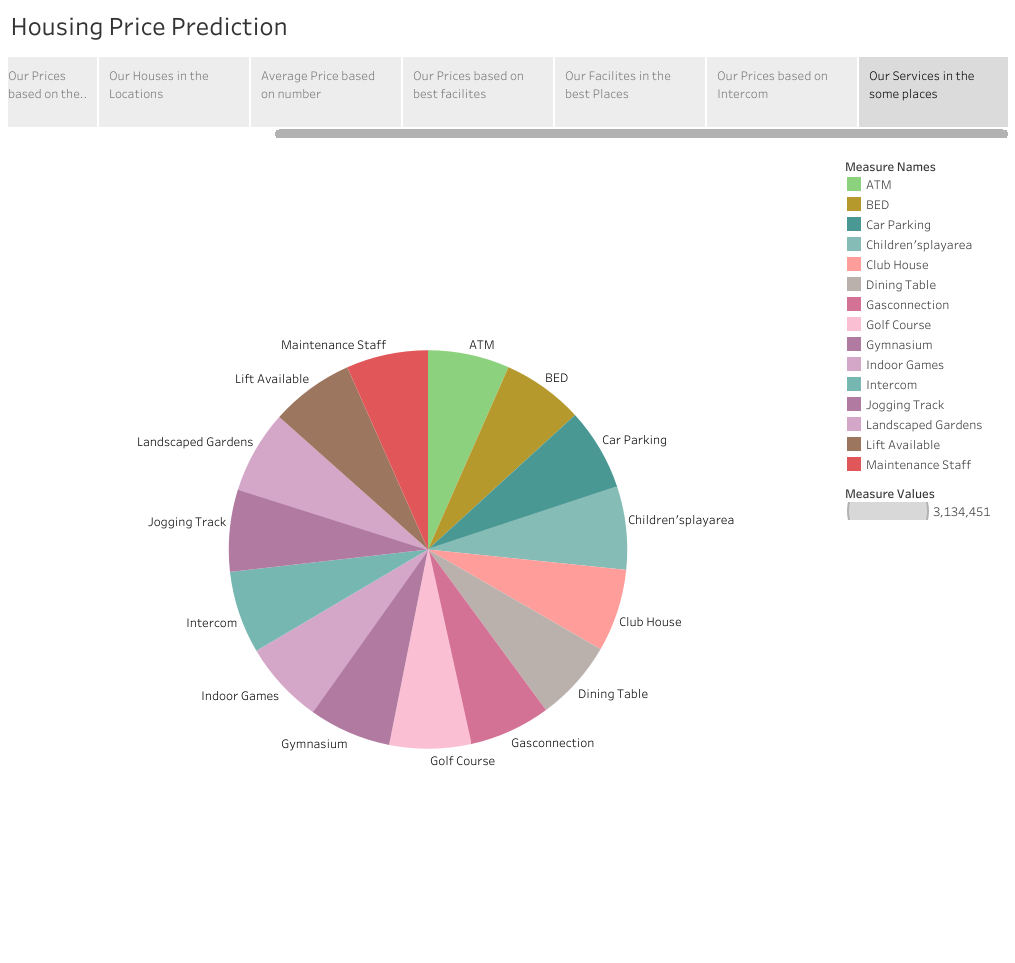

This screenshot's page, from the dashboard's own definition file:
{"tool":"tableau","page":{"name":"Dashboard 3","canvas":[1000,800],"ordinal":2},"visuals":[{"type":"worksheet","title":"Sheet 9","mark":"Pie","box":[8,8,824,392]},{"type":"legend","title":"Sheet 9","param":"[federated.051ejo61k5k1d71gc72n81ba1xm3].[:Measure Names]","box":[832,8,160,282.5]},{"type":"legend","title":"Sheet 9","param":"[federated.051ejo61k5k1d71gc72n81ba1xm3].[Multiple Values]","box":[832,290.5,160,46]},{"type":"filter","title":"Sheet 5","param":"[federated.051ejo61k5k1d71gc72n81ba1xm3].[attr:No. of Bedrooms:qk]","box":[832,336.5,160,69]},{"type":"worksheet","title":"Sheet 5","mark":"Automatic","rows":["Price"],"cols":["Location"],"box":[8,400,824,392]},{"type":"dashboard-object","box":[832,405.5,160,52]},{"type":"dashboard-object","box":[832,457.5,160,52]},{"type":"legend","title":"Sheet 5","param":"[federated.051ejo61k5k1d71gc72n81ba1xm3].[none:Area:ok]","box":[832,509.5,160,282.5]}]}

Visuals, with their boxes on the page's 1000x800 design canvas (x1, y1, x2, y2). These are canvas units, not pixel positions in the 1015x963 screenshot, which may show the page scaled, cropped or inside an application window:
"Sheet 9" worksheet (Pie marks): l=8, t=8, r=832, b=400
"Sheet 9" legend: l=832, t=8, r=992, b=290
"Sheet 9" legend: l=832, t=290, r=992, b=336
"Sheet 5" filter: l=832, t=336, r=992, b=406
"Sheet 5" worksheet: l=8, t=400, r=832, b=792
dashboard-object: l=832, t=406, r=992, b=458
dashboard-object: l=832, t=458, r=992, b=510
"Sheet 5" legend: l=832, t=510, r=992, b=792
